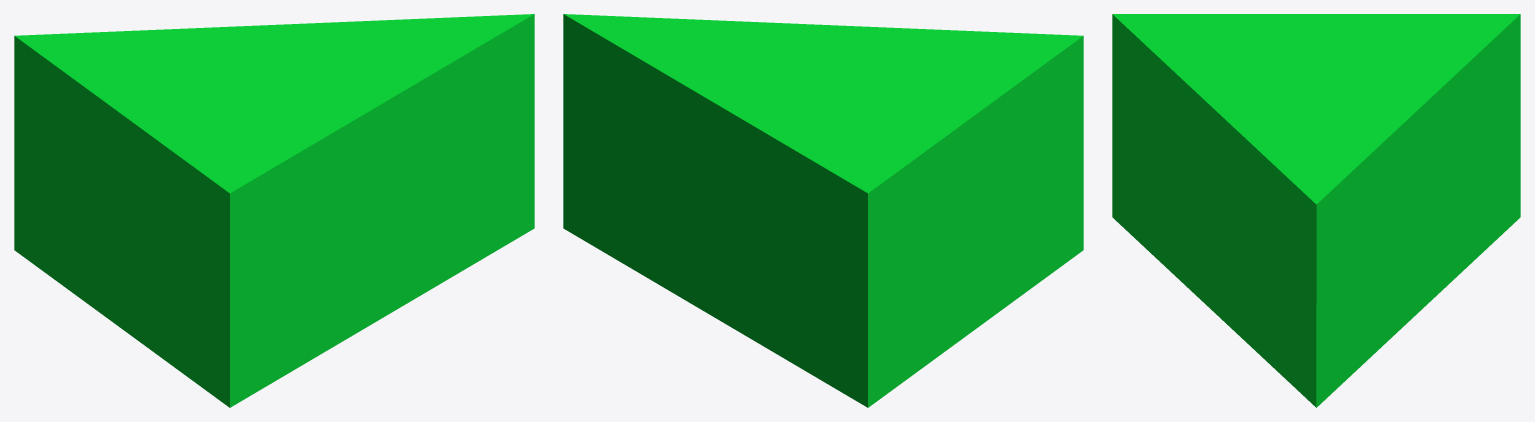
File: cheese.fbx
3 renders of one model, left to right at view 1: azimuth 30°, elevation 25°; view 2: azimuth 150°, elevation 25°; view 3: azimuth 270°, elevation 25°, orthographic. The views are drawn at different scales.
Visible parts, largest first — view 1: Cube; view 2: Cube; view 3: Cube.
Boxes of the visible parts, x1,y1,x2,y2 form: Cube: (14, 14, 534, 407); Cube: (563, 14, 1083, 407); Cube: (1112, 14, 1520, 407).
Size of the model in its own units: 66.59 by 33.1 by 60.26.
